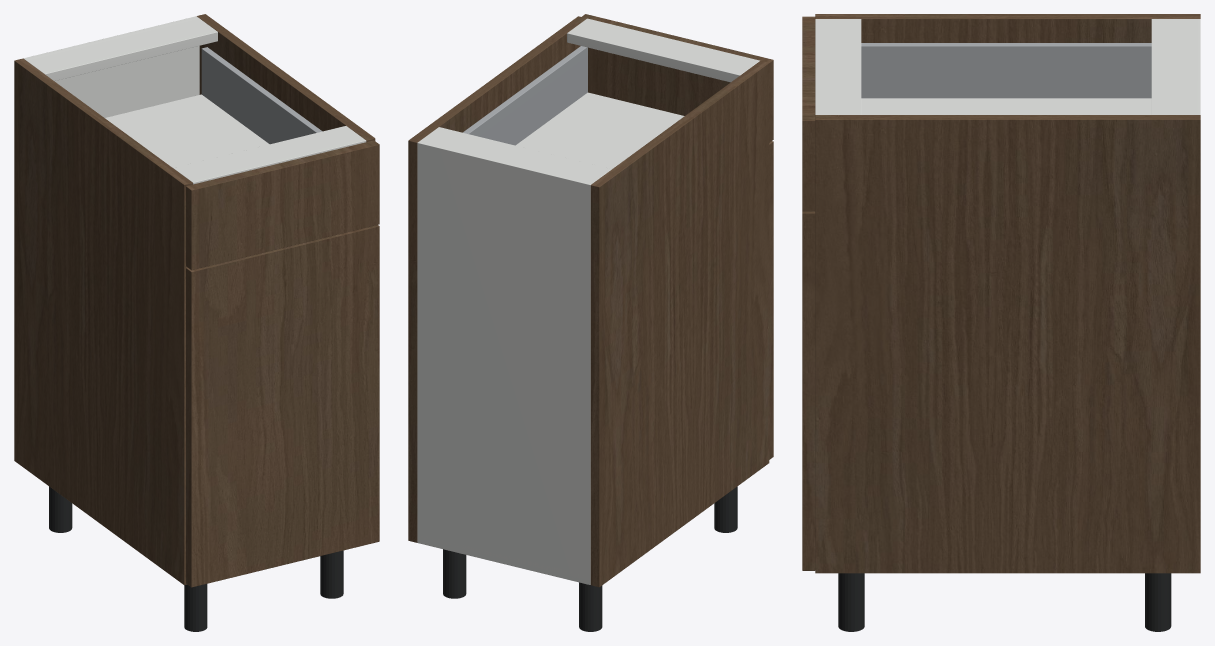
Rendered from oppein-pb-mso-b15.glb.
3 views of the same model, side by side, from view 1: azimuth 30°, elevation 25°; view 2: azimuth 150°, elevation 25°; view 3: azimuth 270°, elevation 25° (orthographic). The views are drawn at different scales.
Visible parts, largest first — view 1: Cabinet side, Door, Drawer front, Cabinet back, Drawer floor, Drawer side.001, Top support rail, Cabinet side.001, Top support rail.001, Adjustable foot.001, Adjustable foot.003, Adjustable foot; view 2: Cabinet side, Cabinet back, Cabinet side.001, Drawer floor, Drawer front, Drawer side.001, Top support rail.001, Top support rail, Door, Adjustable foot, Adjustable foot.002, Adjustable foot.001 (+1 smaller); view 3: Cabinet side.001, Drawer side, Cabinet side, Door, Drawer floor, Top support rail.001, Top support rail, Drawer front, Adjustable foot.002, Adjustable foot.003, Cabinet back.
Boxes of the visible parts, x1,y1,x2,y2 form: Cabinet side: (14,58,192,585); Door: (186,225,379,587); Drawer front: (186,140,379,270); Cabinet back: (23,16,199,117); Drawer floor: (105,94,269,167); Drawer side.001: (201,47,322,144); Top support rail: (25,18,217,80); Cabinet side.001: (197,14,375,141); Top support rail.001: (173,126,366,184); Adjustable foot.001: (184,584,207,631); Adjustable foot.003: (320,550,343,598); Adjustable foot: (49,486,72,532); Cabinet side: (590,60,769,587); Cabinet back: (417,140,593,584); Cabinet side.001: (408,16,586,542); Drawer floor: (515,92,684,168); Drawer front: (582,14,773,142); Drawer side.001: (463,46,587,145); Top support rail.001: (567,18,759,82); Top support rail: (421,127,611,182); Door: (769,141,773,459); Adjustable foot: (579,582,602,631); Adjustable foot.002: (443,549,466,598); Adjustable foot.001: (714,486,737,532); Cabinet side.001: (815,115,1200,573); Drawer side: (861,43,1151,98); Cabinet side: (815,14,1200,42); Door: (802,211,815,570); Drawer floor: (861,98,1151,114); Top support rail.001: (815,19,861,114); Top support rail: (1151,19,1193,114); Drawer front: (802,16,815,211); Adjustable foot.002: (1145,573,1171,631); Adjustable foot.003: (838,573,864,631); Cabinet back: (1193,19,1200,114).
Bounding box in the file's own units: 0.381 × 0.8763 × 0.6064.
Materials: 4 (1 with a texture image).
